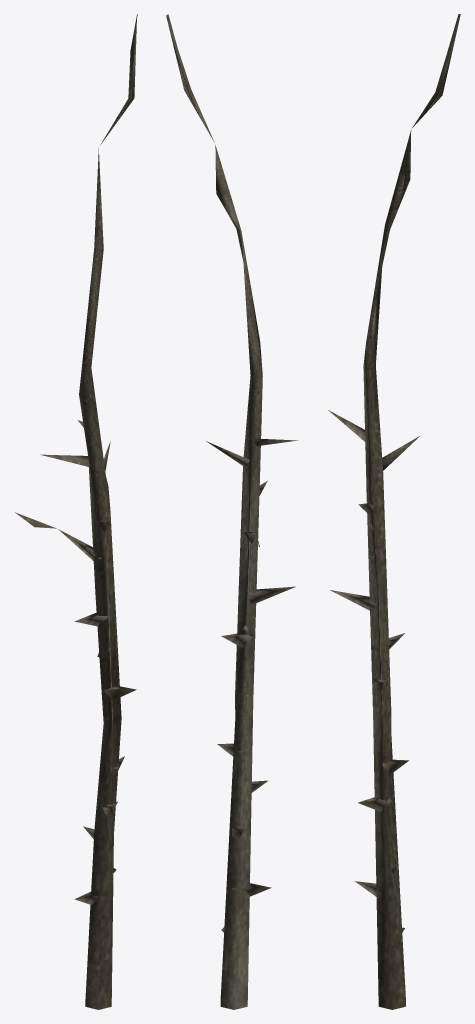
File: tundra-dead-pine-a-map.glb
The picture shows the model from 3 angles, left to right: view 1: azimuth 30°, elevation 25°; view 2: azimuth 150°, elevation 25°; view 3: azimuth 330°, elevation 25°; orthographic projection. The views are drawn at different scales.
Visible parts, largest first — view 1: pine_dead_a_LOD0; view 2: pine_dead_a_LOD0; view 3: pine_dead_a_LOD0.
Part boxes in pixels (x1=…): pine_dead_a_LOD0: x1=15, y1=14, x2=137, y2=1009; pine_dead_a_LOD0: x1=166, y1=14, x2=298, y2=1009; pine_dead_a_LOD0: x1=328, y1=14, x2=460, y2=1009.
Bounding box in the file's own units: 1.79 × 14.54 × 1.55.
1 material, 1 textured.
